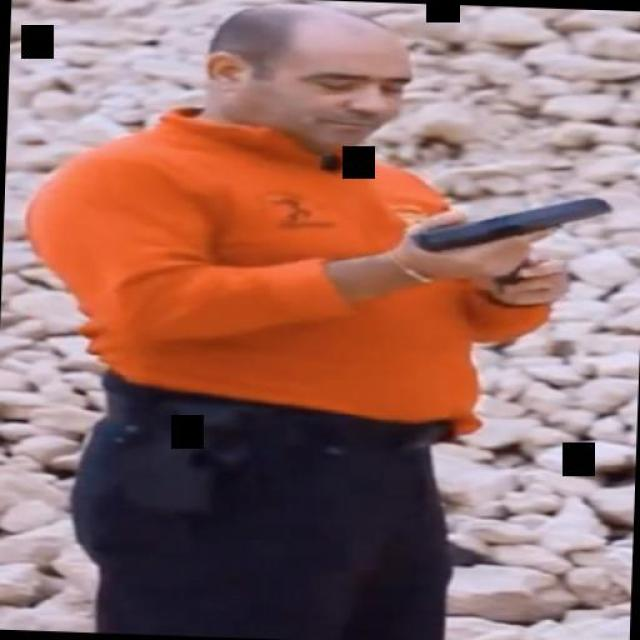gun: (405, 186, 611, 284)
